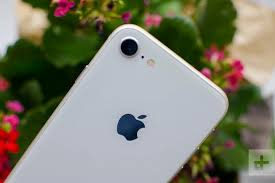apple: (105, 105, 154, 143)
